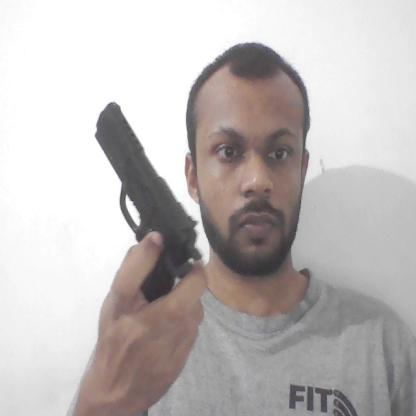handgun: (93, 99, 204, 302)
